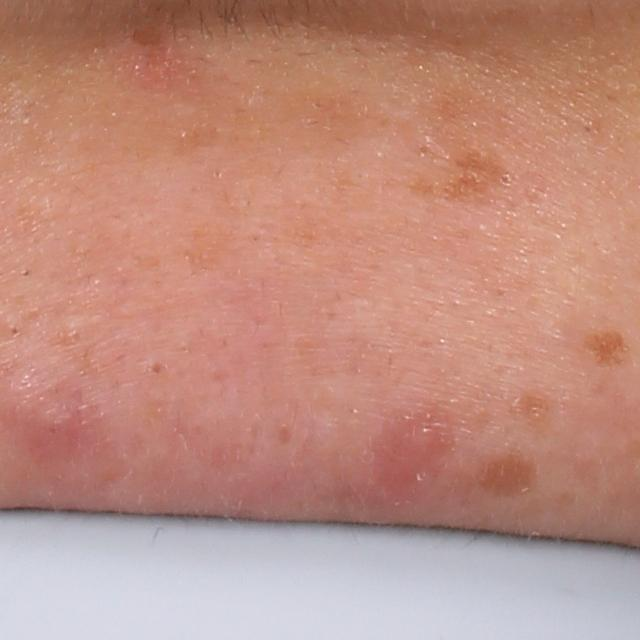comedo: (141, 354, 167, 380)
